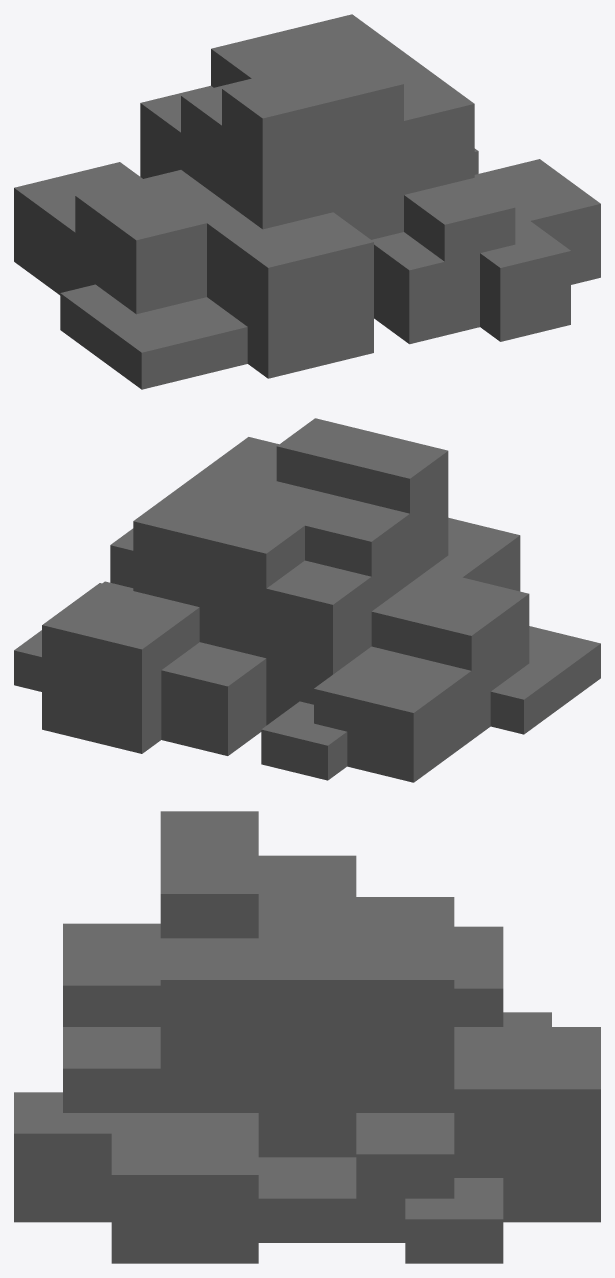
File: rocks-0-rock3.obj
3 views of the same model, one above another, from view 1: azimuth 30°, elevation 25°; view 2: azimuth 150°, elevation 25°; view 3: azimuth 270°, elevation 25° (orthographic). The views are drawn at different scales.
Parts seen in each view (by area): view 1: rock3; view 2: rock3; view 3: rock3.
Boxes of the visible parts, left/top/right/bottom form: rock3: left=14, top=14, right=600, bottom=389; rock3: left=14, top=418, right=600, bottom=782; rock3: left=14, top=811, right=600, bottom=1263.
Size of the model in its own units: 1.3 by 0.6 by 1.2.
Materials: 1 (1 with a texture image).
